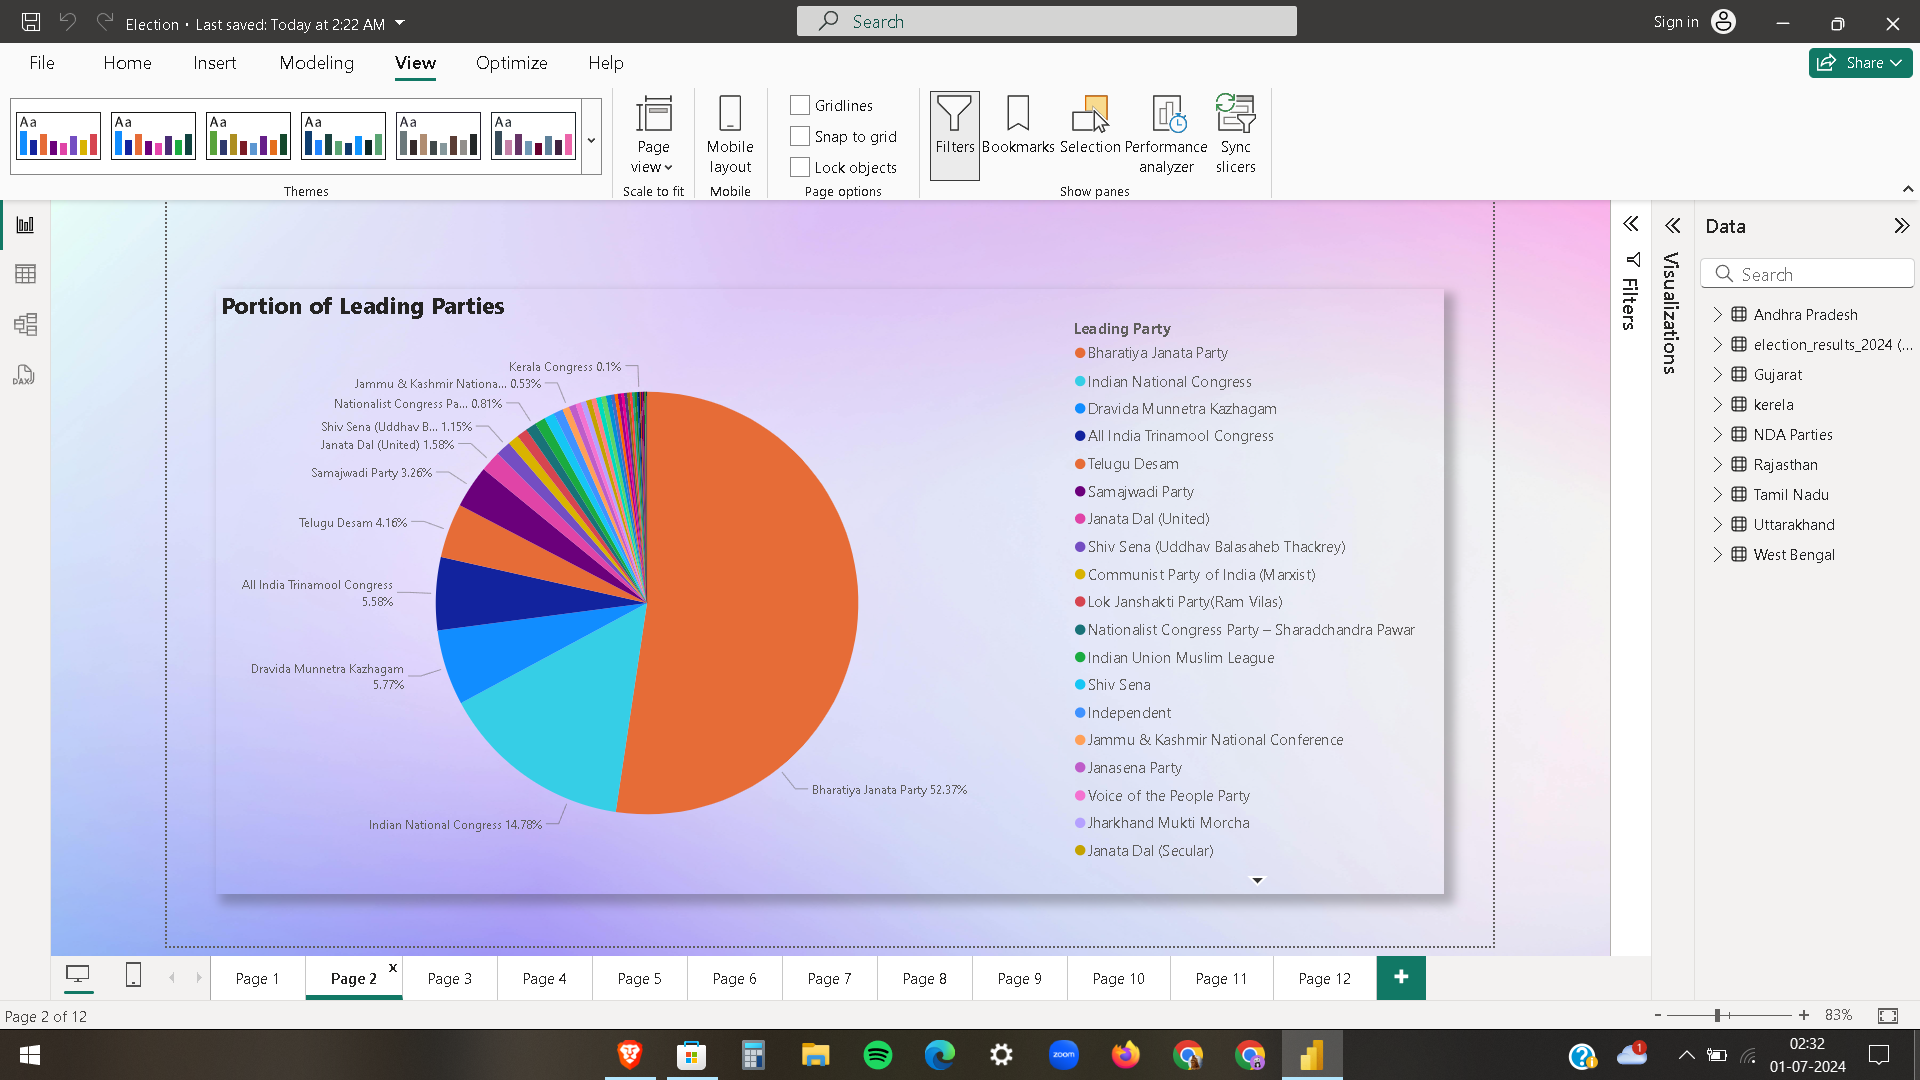

The dashboard page shown, as its layout file describes it:
{"tool":"powerbi","page":{"name":"Page 2","canvas":[1280,720],"ordinal":1},"visuals":[{"type":"pieChart","title":"Portion of Leading Parties","fields":{"Y":["Sum(election_results_2024.Margin)"],"Category":["election_results_2024.Leading Party","election_results_2024.Constituency"]},"box":[47.1,85.7,1185.9,583.9],"z":0}]}

Visuals, with their boxes on the page's 1280x720 design canvas (x1, y1, x2, y2). These are canvas units, not pixel positions in the 1920x1080 screenshot, which may show the page scaled, cropped or inside an application window:
"Portion of Leading Parties" pieChart: {"left": 47, "top": 86, "right": 1233, "bottom": 670}
